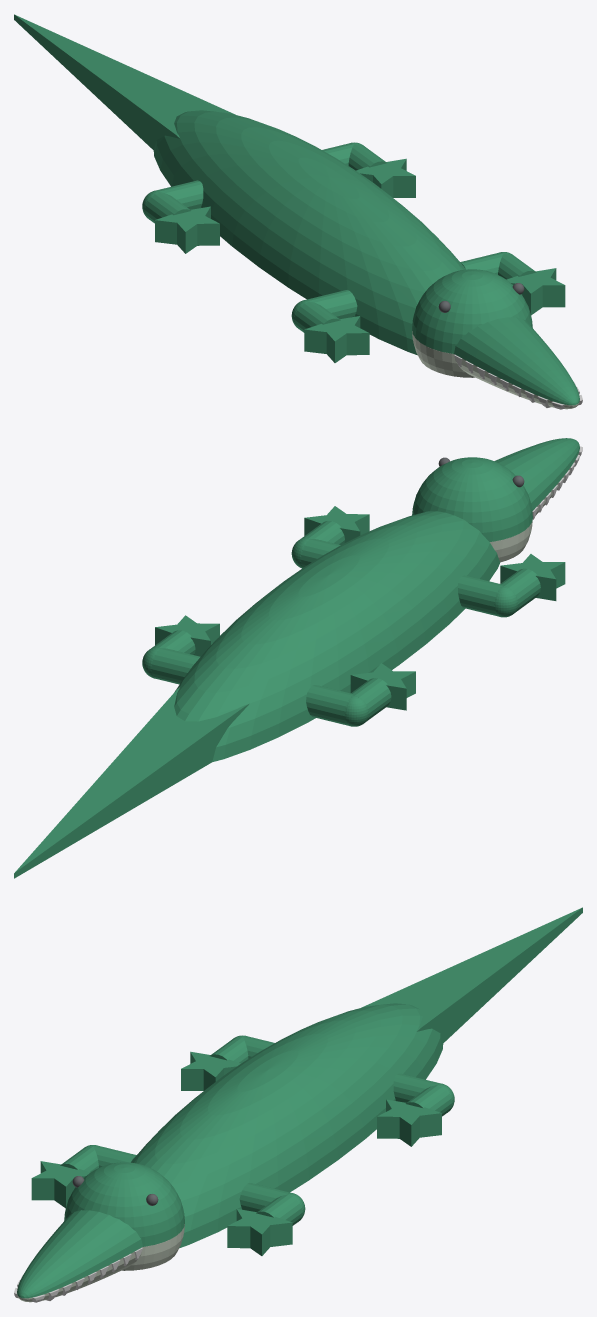
Rendered from alligator.glb.
3 views of the same model, one above another, from view 1: azimuth 30°, elevation 25°; view 2: azimuth 150°, elevation 25°; view 3: azimuth 330°, elevation 25° (orthographic).
Parts seen in each view (by area): view 1: Mesh_Mesh_head_geo.001_lambert2SG.001; view 2: Mesh_Mesh_head_geo.001_lambert2SG.001; view 3: Mesh_Mesh_head_geo.001_lambert2SG.001.
Part boxes in pixels (x1=…): Mesh_Mesh_head_geo.001_lambert2SG.001: x1=14, y1=14, x2=582, y2=409; Mesh_Mesh_head_geo.001_lambert2SG.001: x1=14, y1=438, x2=582, y2=878; Mesh_Mesh_head_geo.001_lambert2SG.001: x1=14, y1=907, x2=582, y2=1302.
Bounding box in the file's own units: 36 × 11 × 139.
